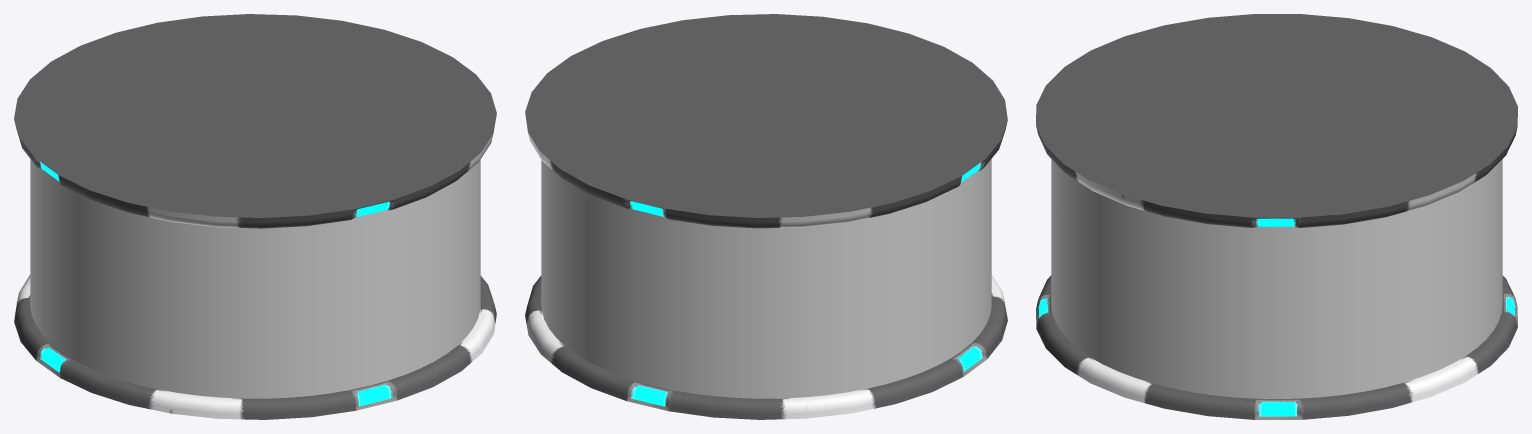
The model's file is capsuleModel.fbx.
3 renders of one model, left to right at view 1: azimuth 30°, elevation 25°; view 2: azimuth 150°, elevation 25°; view 3: azimuth 270°, elevation 25°, orthographic.
Visible parts, largest first — view 1: Cylinder.002, Cylinder.001, Cylinder; view 2: Cylinder.002, Cylinder.001, Cylinder; view 3: Cylinder.002, Cylinder.001, Cylinder.
Boxes of the visible parts, bbox=[...] form: Cylinder.002: bbox=[14, 14, 496, 228]; Cylinder.001: bbox=[30, 159, 480, 398]; Cylinder: bbox=[14, 275, 496, 419]; Cylinder.002: bbox=[525, 14, 1007, 228]; Cylinder.001: bbox=[541, 159, 991, 398]; Cylinder: bbox=[525, 275, 1007, 419]; Cylinder.002: bbox=[1036, 14, 1517, 228]; Cylinder.001: bbox=[1051, 159, 1502, 398]; Cylinder: bbox=[1036, 275, 1517, 419].
Bounding box in the file's own units: 1099 × 509 × 1099.
